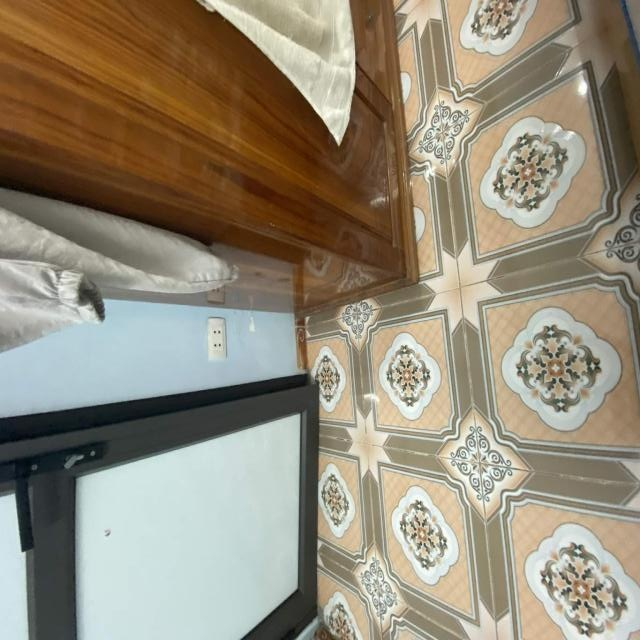outlet: (207, 317, 227, 360)
